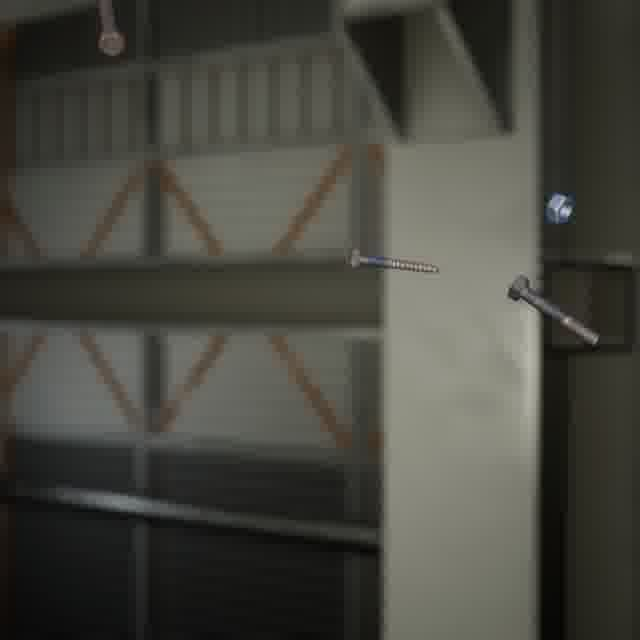bolt: (503, 271, 605, 351), (343, 243, 446, 277), (94, 0, 130, 60)
nut: (541, 188, 578, 228)
